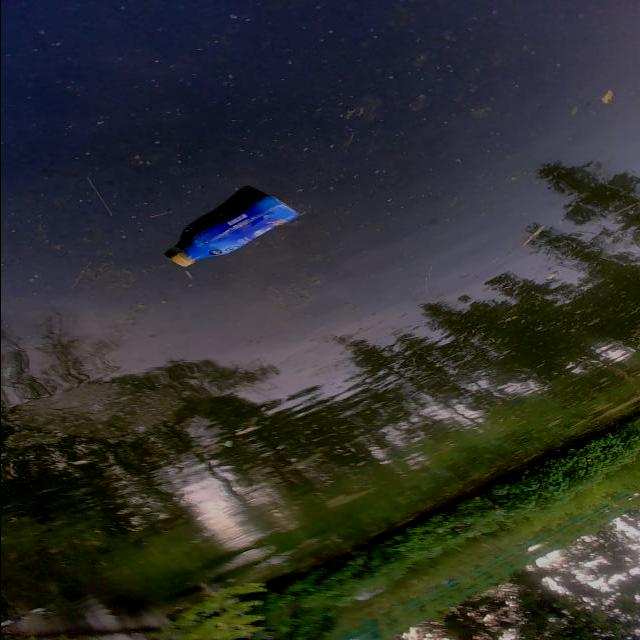bottle: (153, 170, 341, 290)
